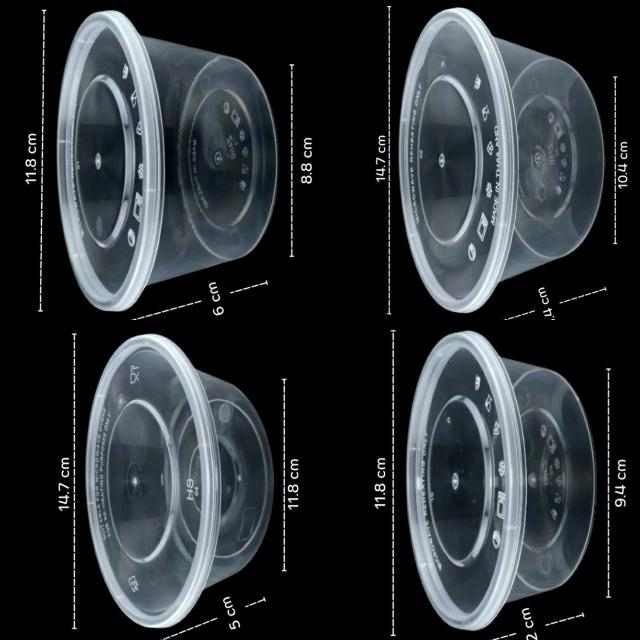Single-Use-Plastic: (58, 11, 278, 311), (399, 8, 604, 312), (408, 331, 596, 629), (86, 335, 272, 628)
